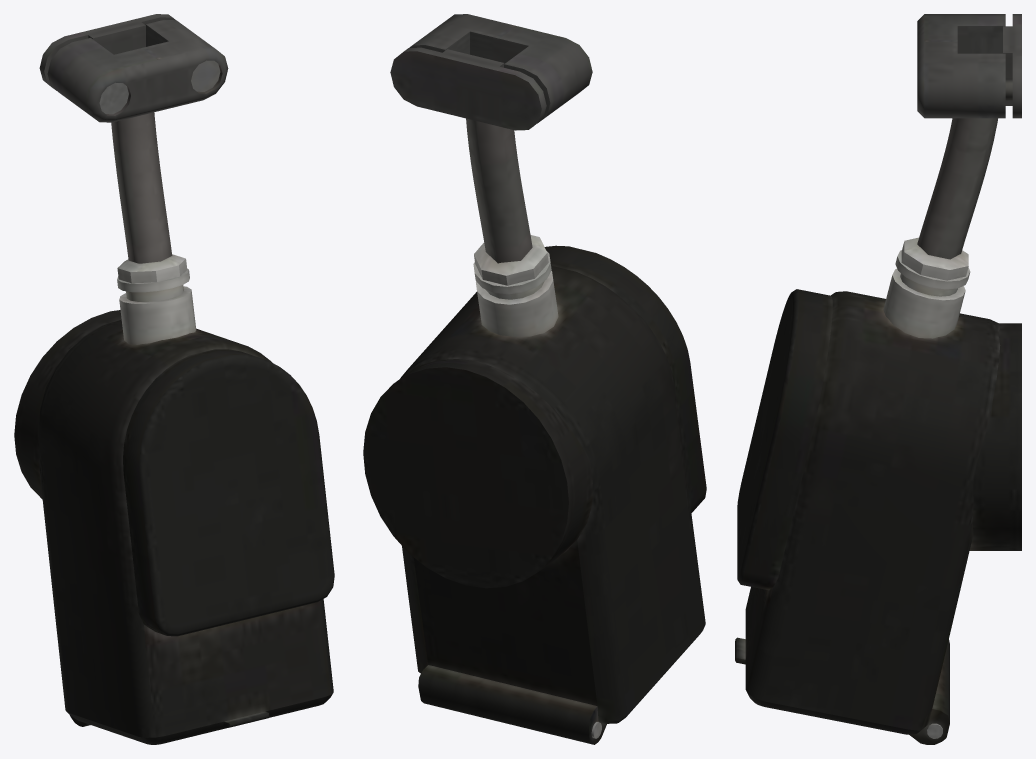
File: cable_plug_covered_2.gltf
The picture shows the model from 3 angles, left to right: view 1: azimuth 30°, elevation 25°; view 2: azimuth 150°, elevation 25°; view 3: azimuth 270°, elevation 25°; orthographic projection. The views are drawn at different scales.
Parts seen in each view (by area): view 1: cable_plug_covered_2; view 2: cable_plug_covered_2; view 3: cable_plug_covered_2.
Boxes of the visible parts, box(x1,y1,x2,y2) form: cable_plug_covered_2: box(14, 14, 334, 744); cable_plug_covered_2: box(363, 14, 706, 744); cable_plug_covered_2: box(735, 14, 1021, 744).
Size of the model in its own units: 0.0567 by 0.1825 by 0.0712.
Materials: 1 (1 with a texture image).
